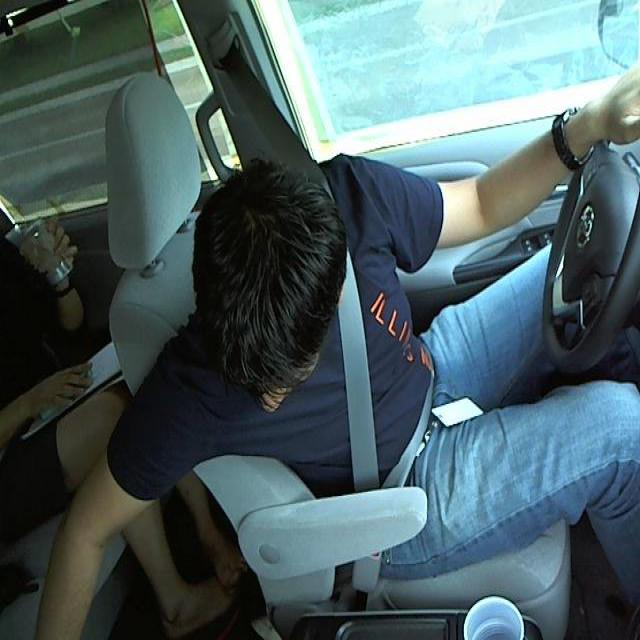seatbelt: (318, 256, 447, 504)
